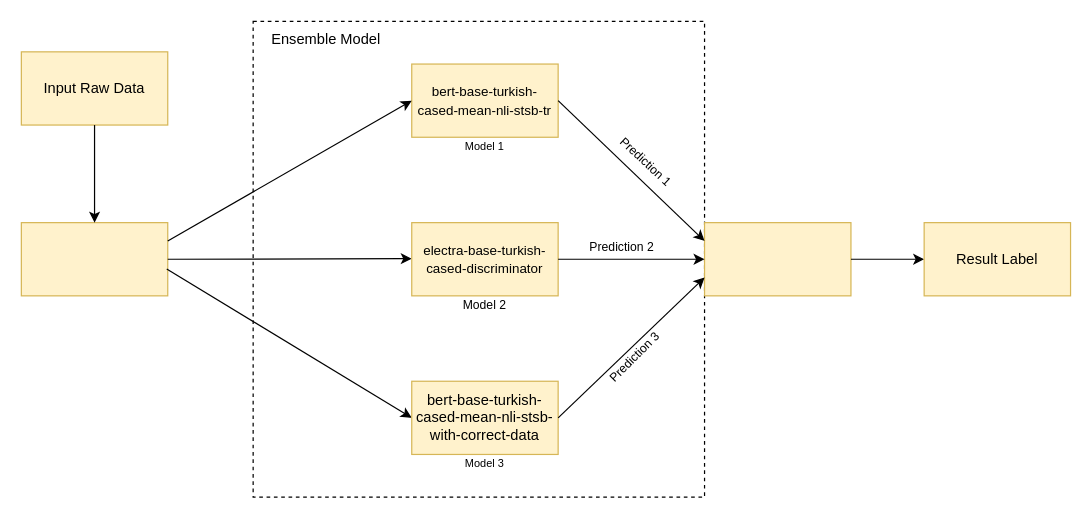
Some shapes in this 1092 by 519 pixel diagram are drawn without their labels. Here are the shapes that lost their labels. From the top down, the centre of each, then its label:
At pixel 94 258: "Preprocessing".
At pixel 777 258: "Final Prediction".
